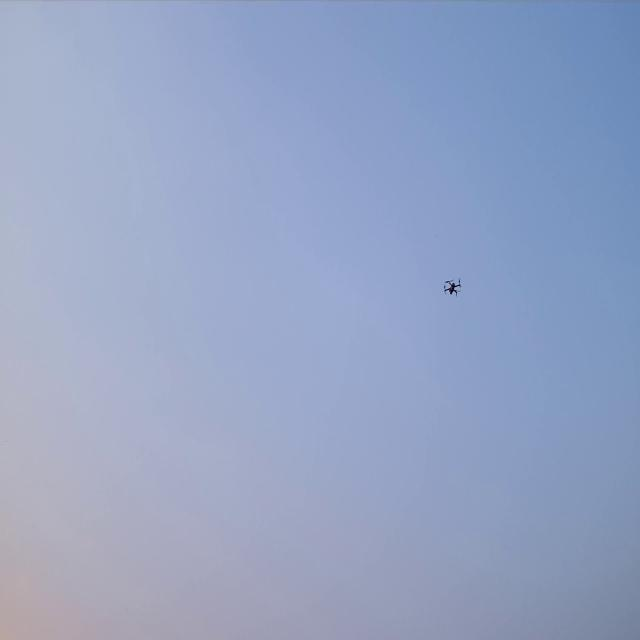UAV: (442, 276, 462, 297)
